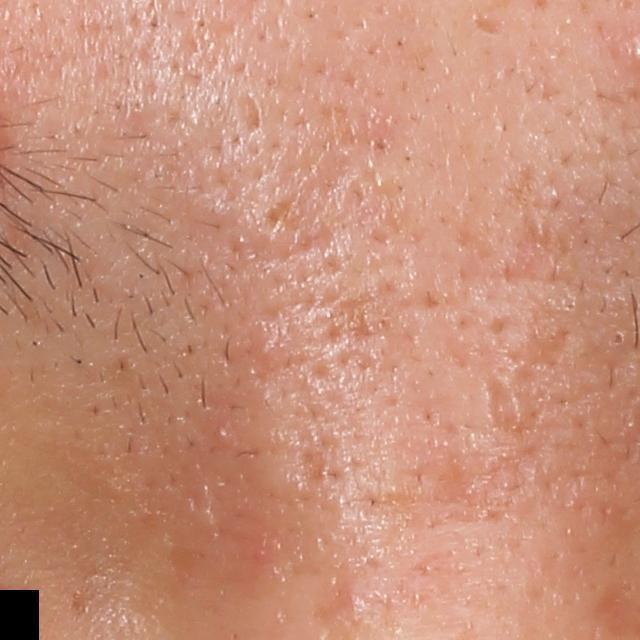atrophic_scar: (477, 164, 580, 314), (508, 306, 587, 392), (480, 368, 528, 439), (230, 87, 268, 143), (263, 197, 295, 232), (472, 13, 507, 37)
comedo: (610, 326, 634, 347)
melasma: (70, 588, 94, 617)
